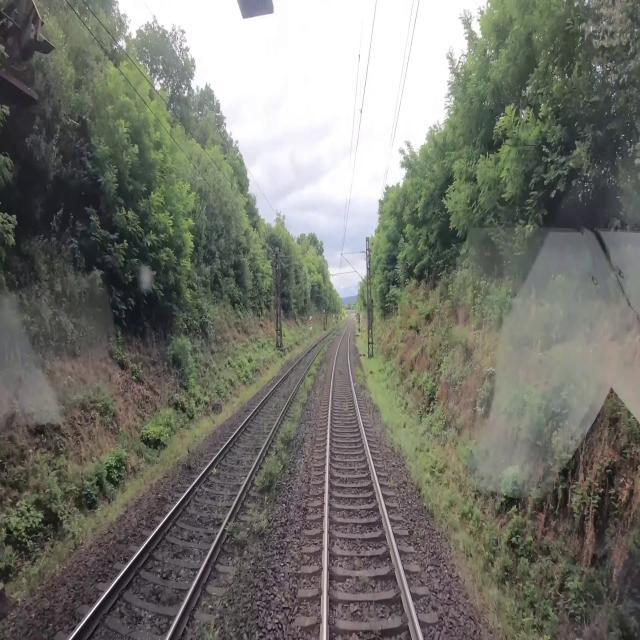Plant: (232, 334, 338, 552)
